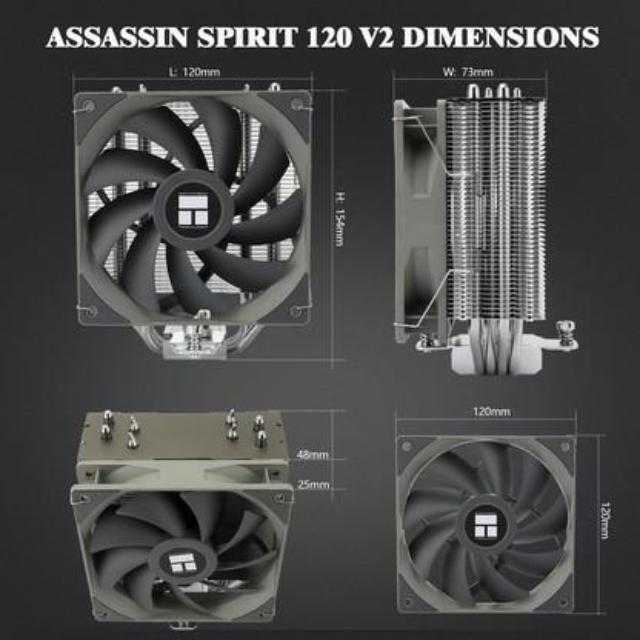CPU_Fan: (71, 89, 312, 364), (388, 93, 574, 379), (70, 409, 296, 623)
